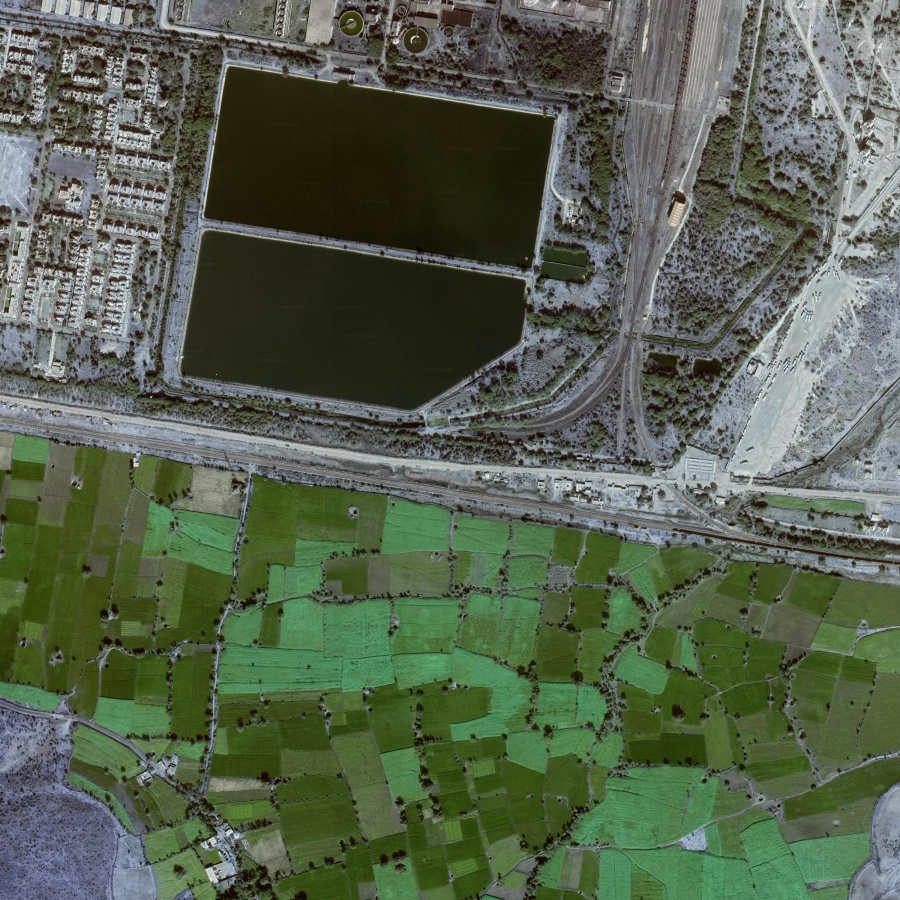PowerPlant: (152, 34, 572, 440)
